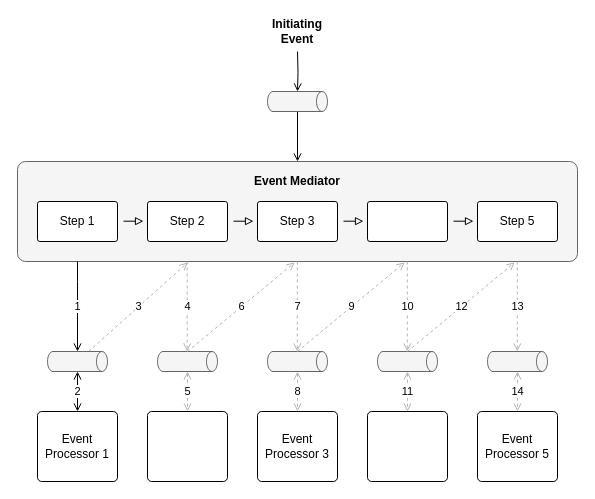
The diagram is 595 pixels wide and 499 high, and some of its shapes have lost their labels. The box of each missing label's shape, as (x1, y1, x2, y2) in pixels:
Event Processor 2: (146, 410, 228, 482)
Event Processor 4: (366, 410, 448, 482)
Step 4: (366, 200, 448, 242)
